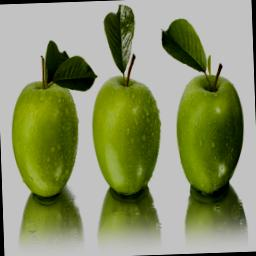Apple Ripe: (7, 61, 93, 214), (91, 63, 168, 202), (178, 69, 249, 212)
